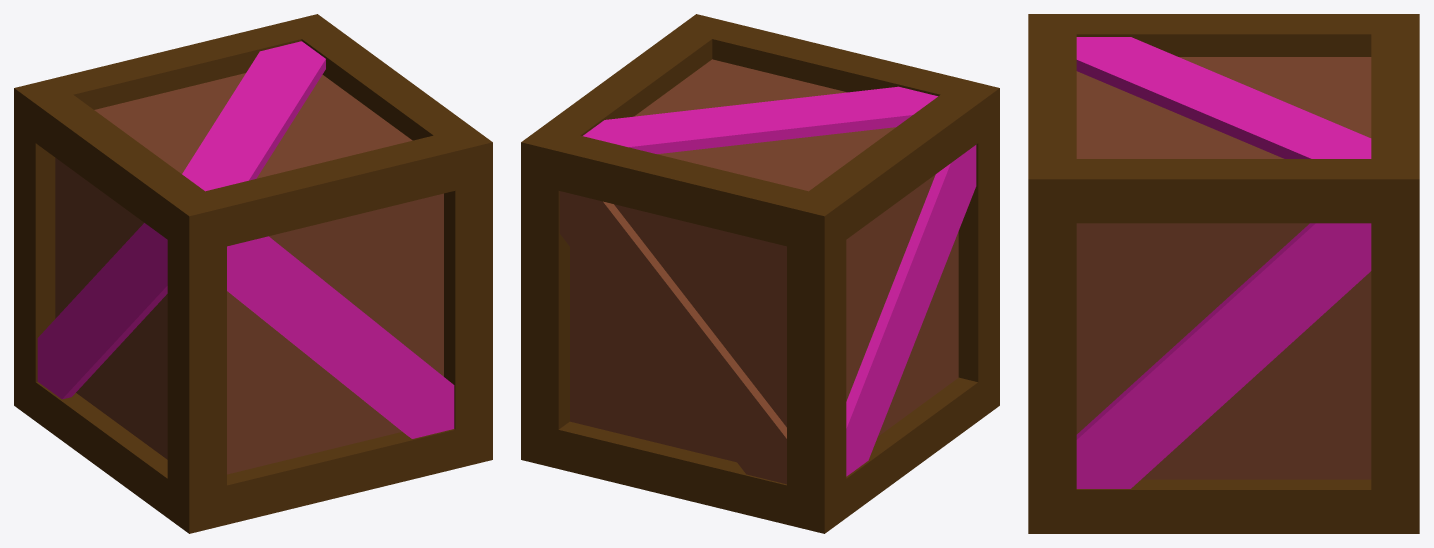
File: Crate.fbx
The picture shows the model from 3 angles, left to right: view 1: azimuth 30°, elevation 25°; view 2: azimuth 150°, elevation 25°; view 3: azimuth 270°, elevation 25°; orthographic projection. The views are drawn at different scales.
Parts seen in each view (by area): view 1: Cube.008; view 2: Cube.008; view 3: Cube.008.
Part boxes in pixels (<box>): Cube.008: <box>14,14,492,533</box>; Cube.008: <box>521,14,999,533</box>; Cube.008: <box>1028,14,1419,533</box>.
Bounding box in the file's own units: 200 × 200 × 200.
